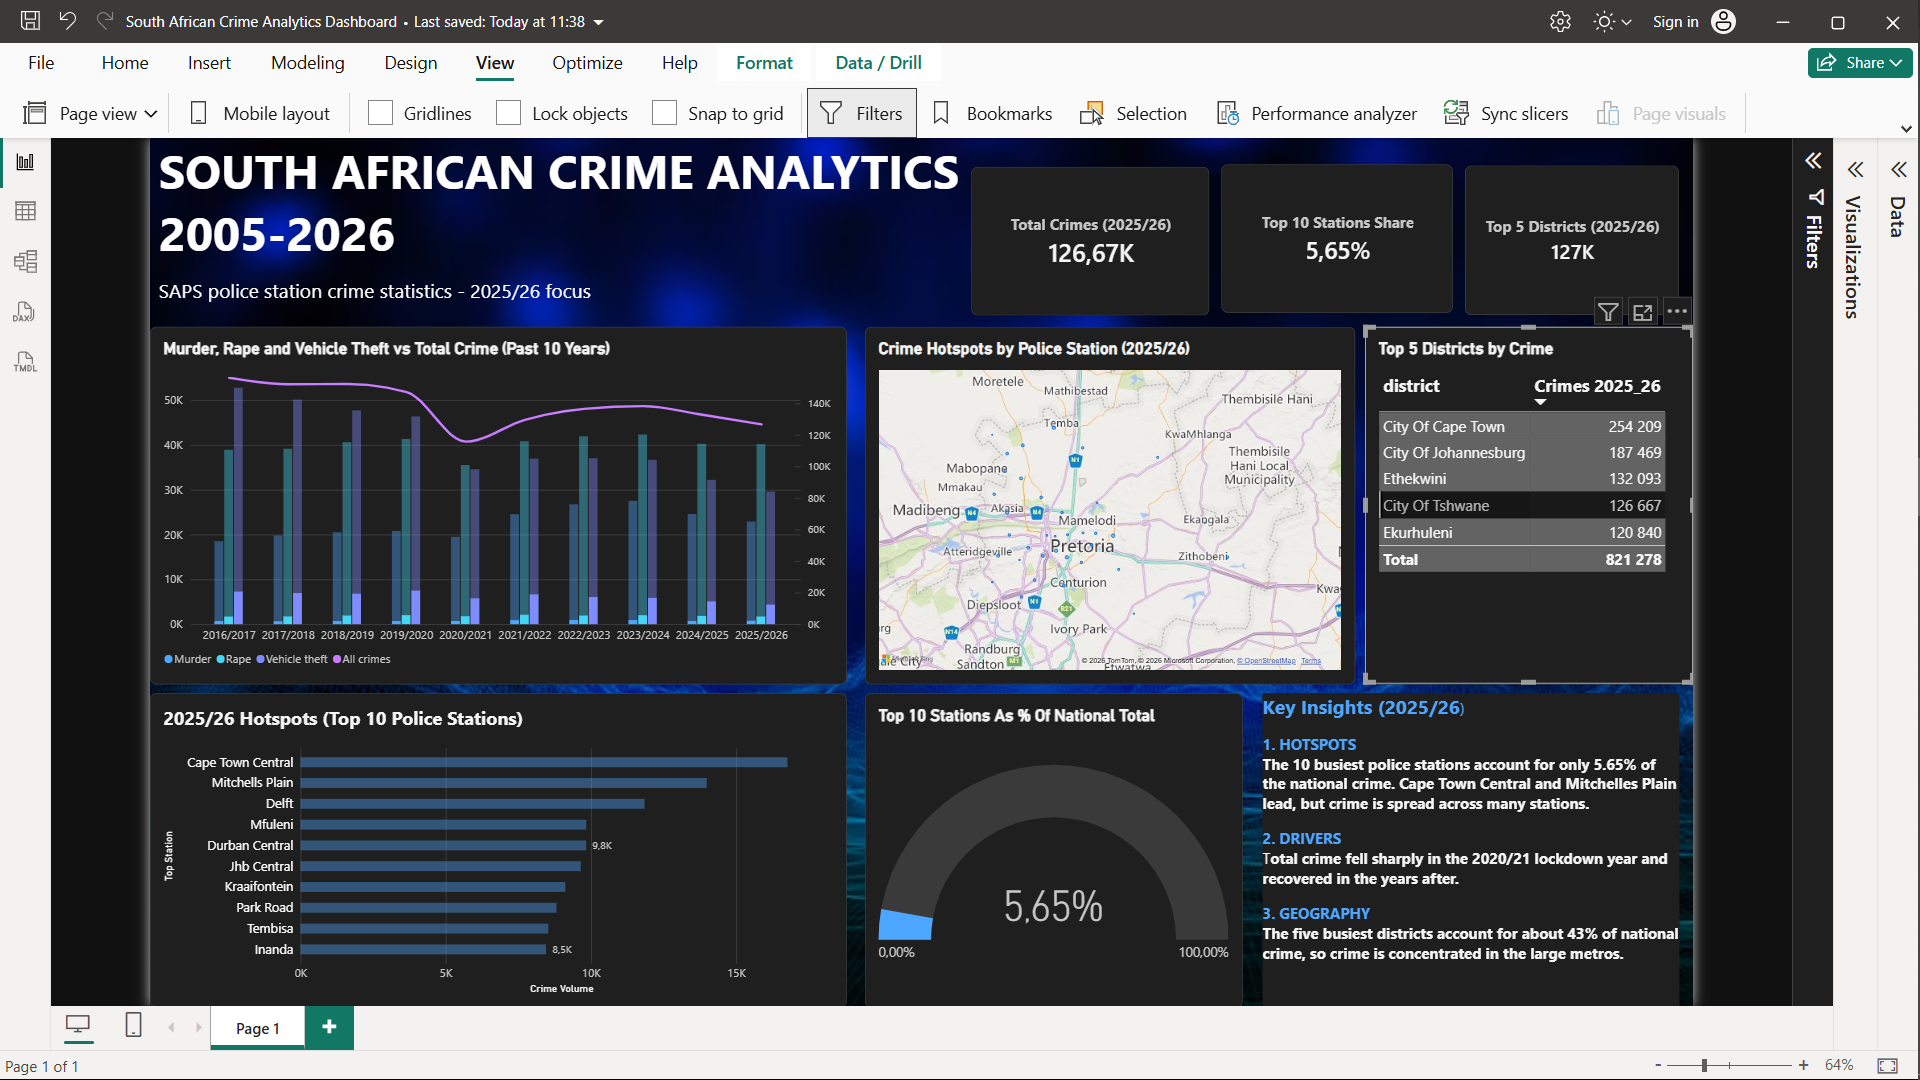

The dashboard page shown, as its layout file describes it:
{"tool":"powerbi","page":{"name":"Page 1","canvas":[1920,1080],"ordinal":0},"visuals":[{"type":"textbox","box":[10.3,0,1321.4,253.2],"z":0},{"type":"group","id":"g1","title":"Group 1","box":[1022,36,296,186],"z":1000},{"type":"clusteredBarChart","title":"2025/26 Hotspots (Top 10 Police Stations)","fields":{"Category":["sapacr-2005-2026-v1 5.station"],"Y":["_Measures.Crimes 2025_26"]},"box":[0,689.5,866.6,391.1],"z":2000},{"type":"cardVisual","fields":{"Data":["_Measures.Crimes 2025_26"]},"box":[1022,36,296.4,185.2],"z":3000,"group":"g1"},{"type":"gauge","title":"Top 10 Stations As % Of National Total","fields":{"Y":["_Measures.Top 10 % Share"]},"box":[889.2,689.5,469.3,391.1],"z":3000},{"type":"lineClusteredColumnComboChart","title":"Murder, Rape and Vehicle Theft vs Total Crime (Past 10 Years)","fields":{"Category":["sapacr-2005-2026-v1 5.year"],"Y":["Sum(sapacr-2005-2026-v1 5.murder)","Sum(sapacr-2005-2026-v1 5.rape)","Sum(sapacr-2005-2026-v1 5.vehicle_theft)"],"Y2":["_Measures.Total Crimes"]},"box":[0,234.6,866.6,444.6],"z":4000},{"type":"map","title":"Crime Hotspots by Police Station (2025/26)","fields":{"Category":["sapacr-2005-2026-v1 5.station"],"Size":["_Measures.Crimes 2025_26"],"X":["Avg(sapacr-2005-2026-v1 5.longitude)"],"Y":["Avg(sapacr-2005-2026-v1 5.latitude)"]},"box":[889.2,234.6,609.3,444.6],"z":5000},{"type":"tableEx","title":"Top 5 Districts by Crime","fields":{"Values":["sapacr-2005-2026-v1 5.district","_Measures.Crimes 2025_26"]},"box":[1510.8,234.6,409.6,444.6],"z":6000},{"type":"cardVisual","fields":{"Data":["_Measures.Top 10 % Share"]},"box":[1332,32,288.2,185.2],"z":7000},{"type":"textbox","box":[1384,690,518,390],"z":8000},{"type":"cardVisual","fields":{"Data":["_Measures.Top 5 Districts"]},"box":[1636,34,266,186],"z":9000}]}

Visuals, with their boxes on the page's 1920x1080 design canvas (x1, y1, x2, y2). These are canvas units, not pixel positions in the 1920x1080 screenshot, which may show the page scaled, cropped or inside an application window:
textbox: bbox=(10, 0, 1332, 253)
"Group 1" group: bbox=(1022, 36, 1318, 222)
"2025/26 Hotspots (Top 10 Police Stations)" clusteredBarChart: bbox=(0, 690, 867, 1081)
cardVisual - _Measures.Crimes 2025_26: bbox=(1022, 36, 1318, 221)
"Top 10 Stations As % Of National Total" gauge: bbox=(889, 690, 1358, 1081)
"Murder, Rape and Vehicle Theft vs Total Crime (Past 10 Years)" lineClusteredColumnComboChart: bbox=(0, 235, 867, 679)
"Crime Hotspots by Police Station (2025/26)" map: bbox=(889, 235, 1498, 679)
"Top 5 Districts by Crime" tableEx: bbox=(1511, 235, 1920, 679)
cardVisual - _Measures.Top 10 % Share: bbox=(1332, 32, 1620, 217)
textbox: bbox=(1384, 690, 1902, 1080)
cardVisual - _Measures.Top 5 Districts: bbox=(1636, 34, 1902, 220)
